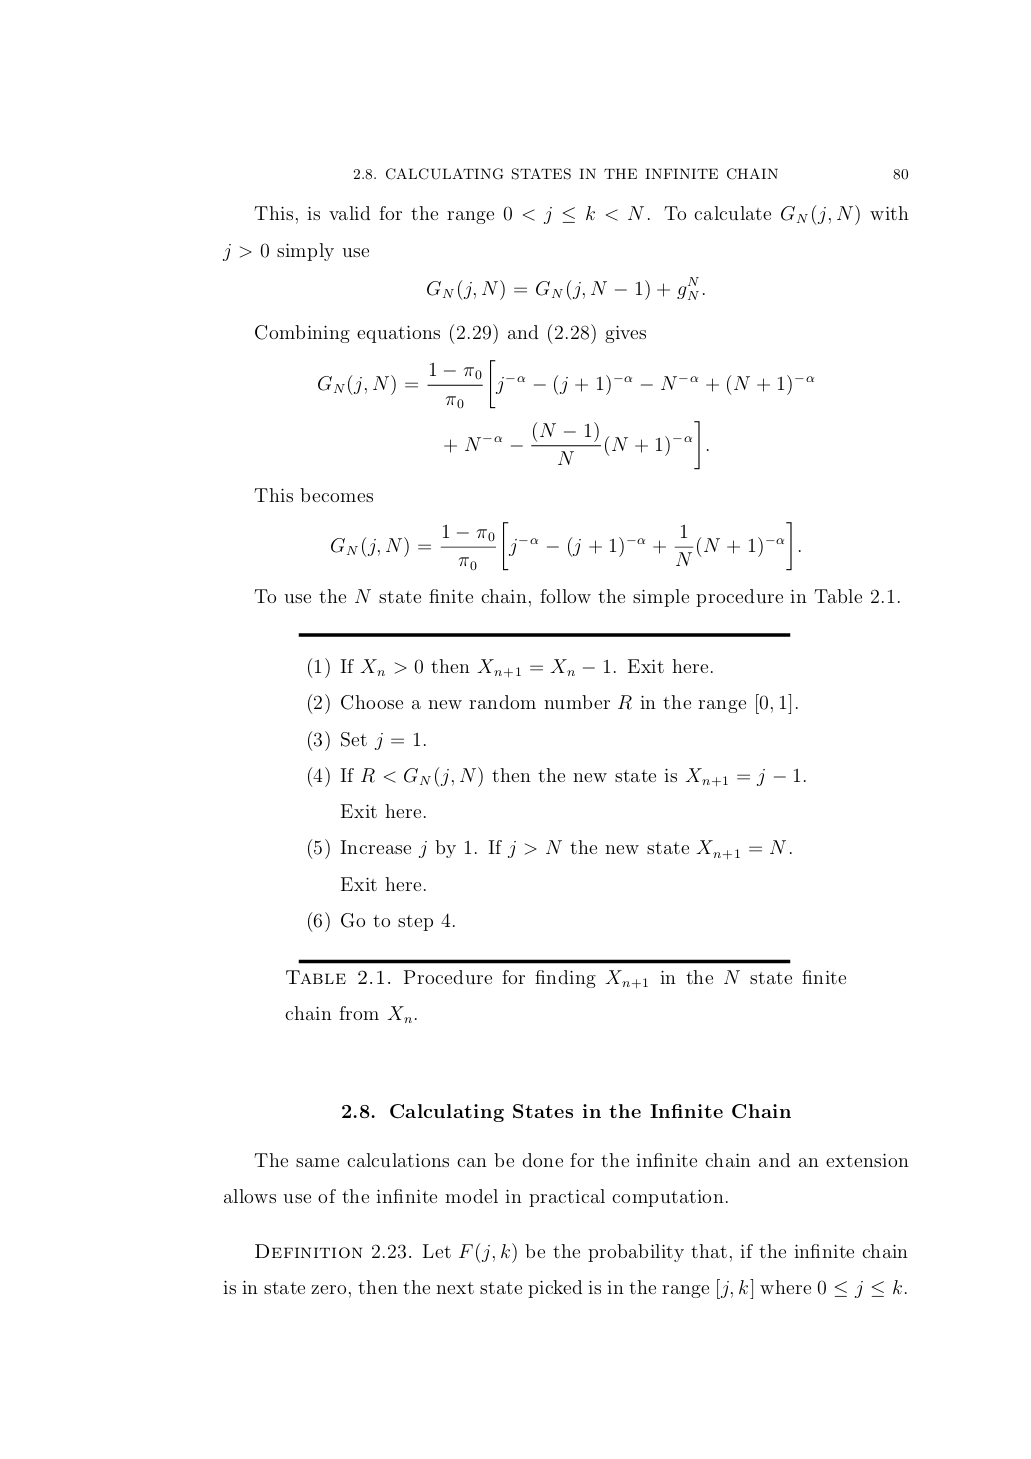figure: (298, 958, 790, 964), (298, 632, 790, 637)
formula: (318, 358, 815, 409), (331, 521, 800, 571), (444, 421, 709, 470), (427, 276, 704, 300)
